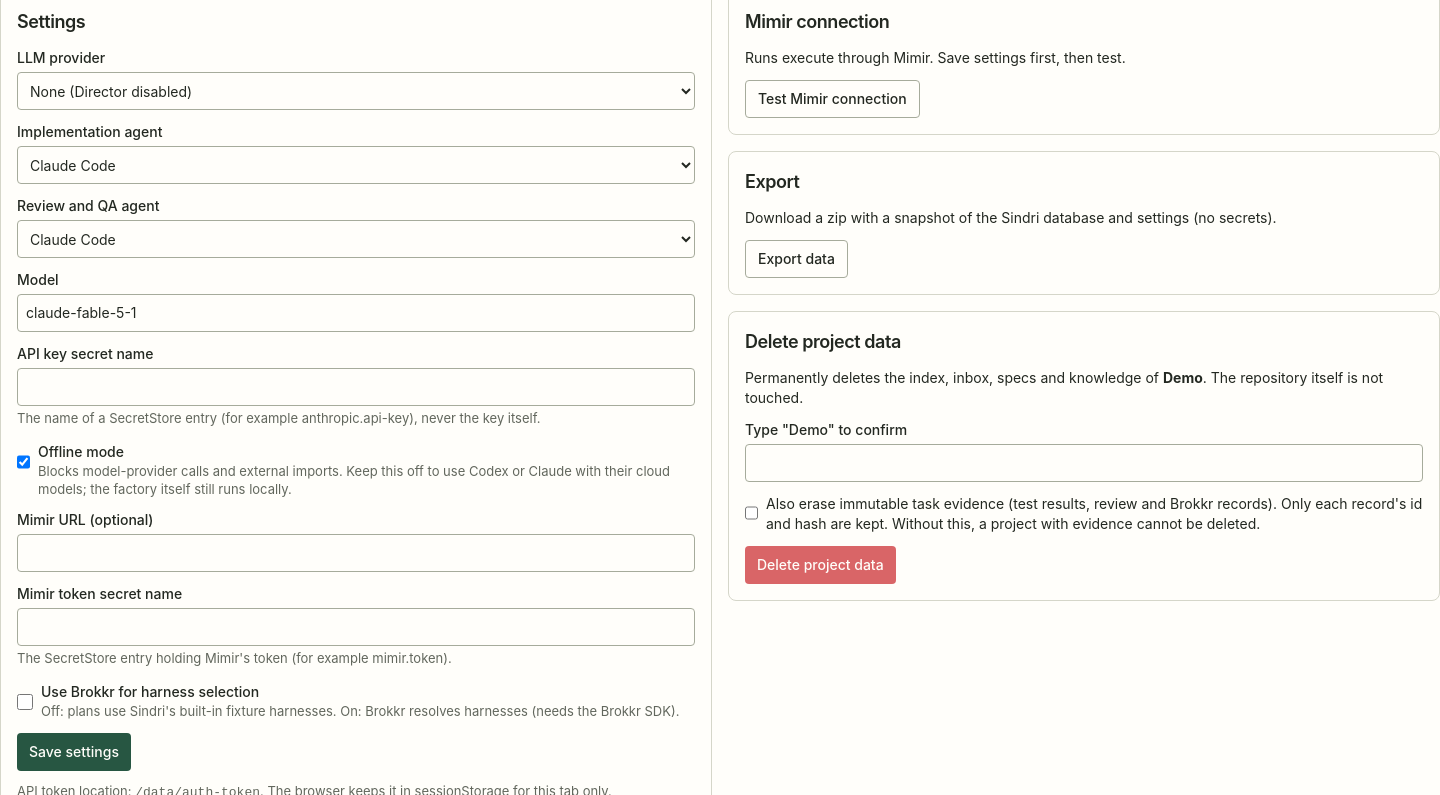
Test case: SettingsScreen › saves provider, model, key handle and local-only
Select "Anthropic API" in the dropdown labelled "LLM provider": (356, 91) left=17, top=72, right=695, bottom=110
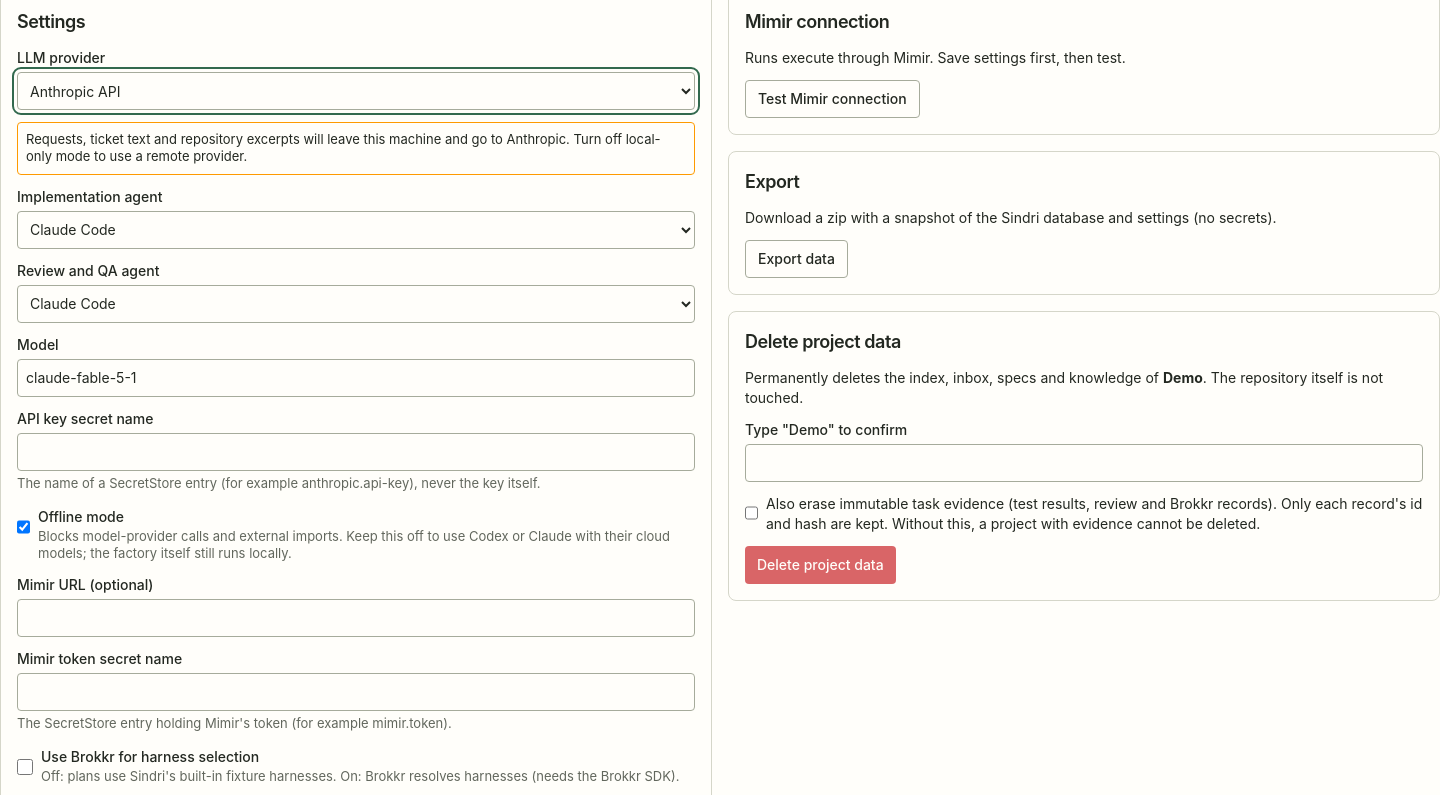
In the field labelled "API key secret name": (356, 452) left=17, top=433, right=695, bottom=471, type "anthropic.api-key"
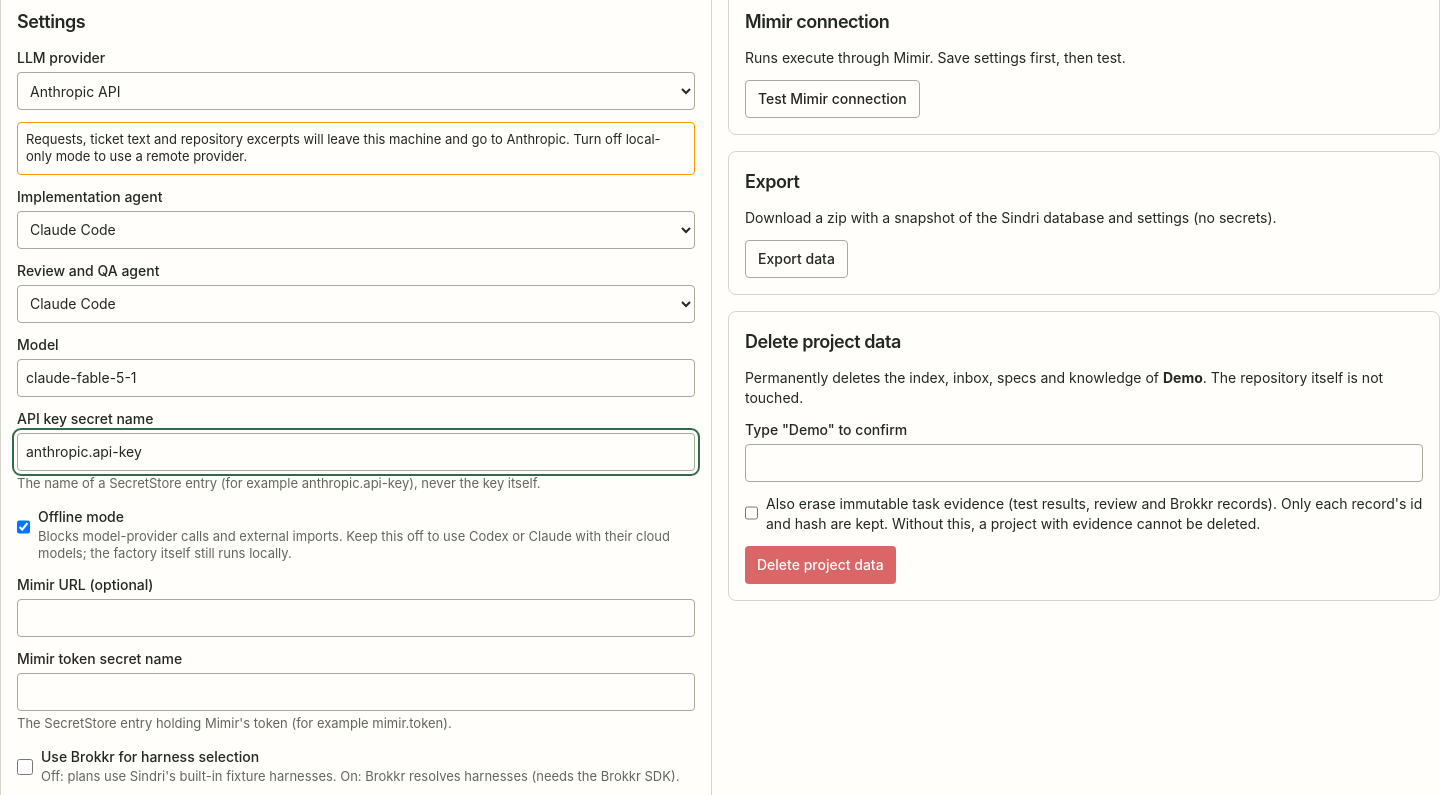
Click the checkbox labelled "Offline mode": (24, 527) left=17, top=508, right=30, bottom=546
(page scrolled)
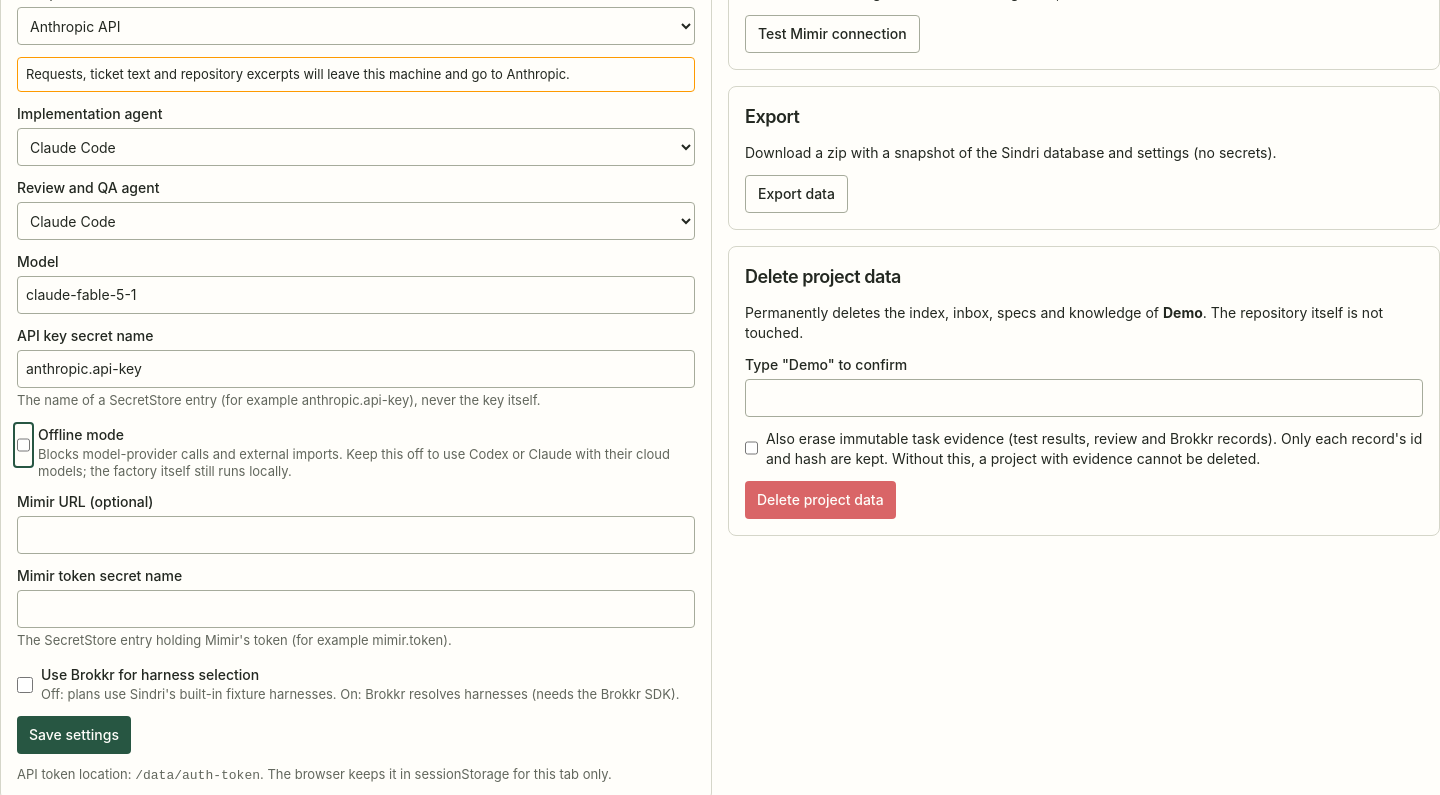
Click the button "Save settings": (74, 735) left=17, top=716, right=131, bottom=754
(page scrolled)
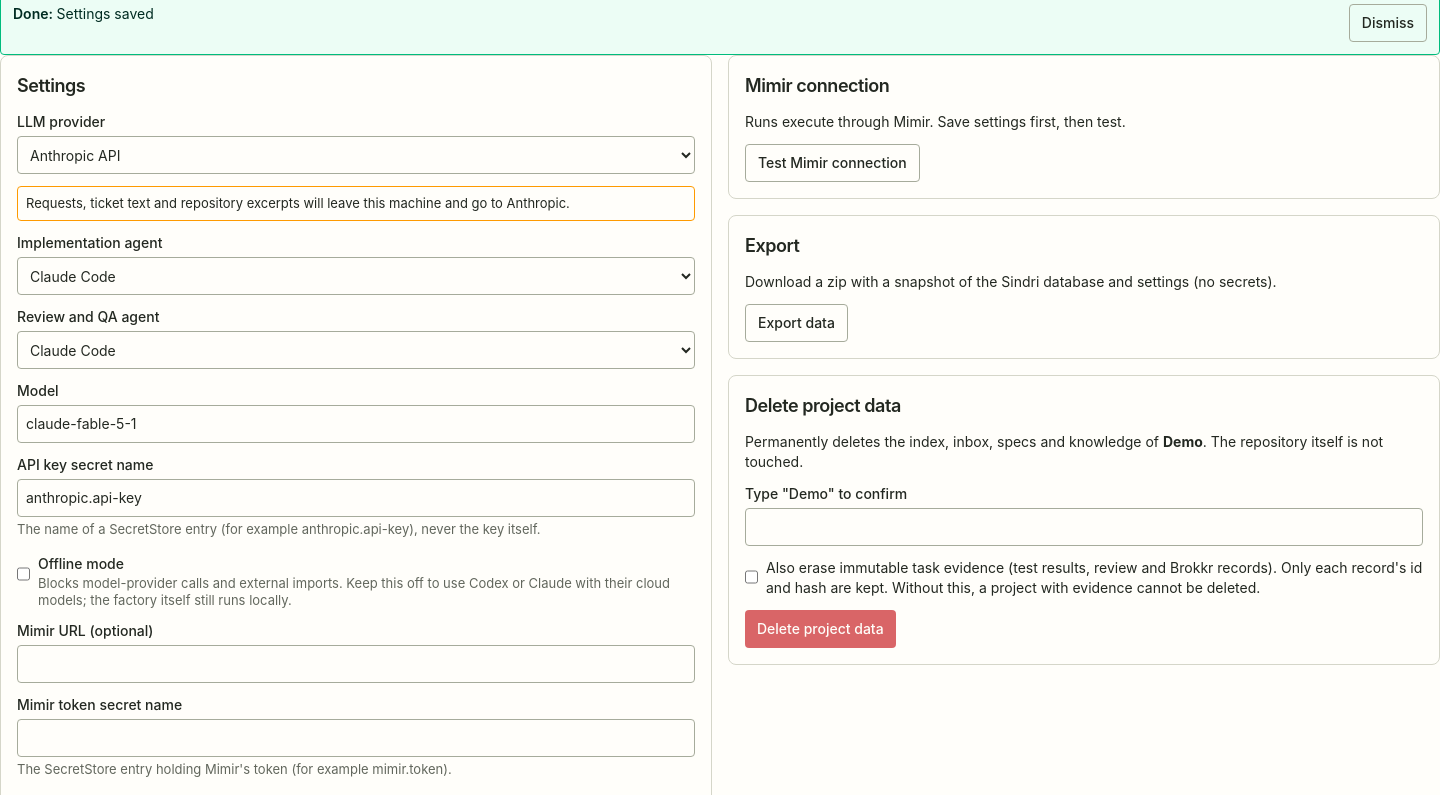
Now the message shows "Settings saved", box left=56, top=5, right=154, bottom=22
